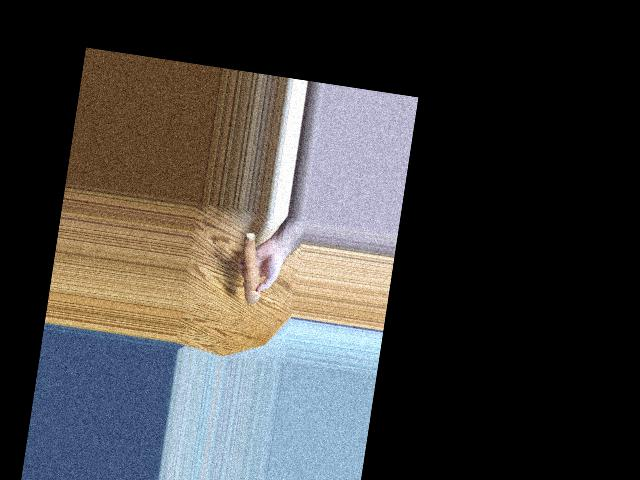sweet_potato: (234, 234, 266, 309)
